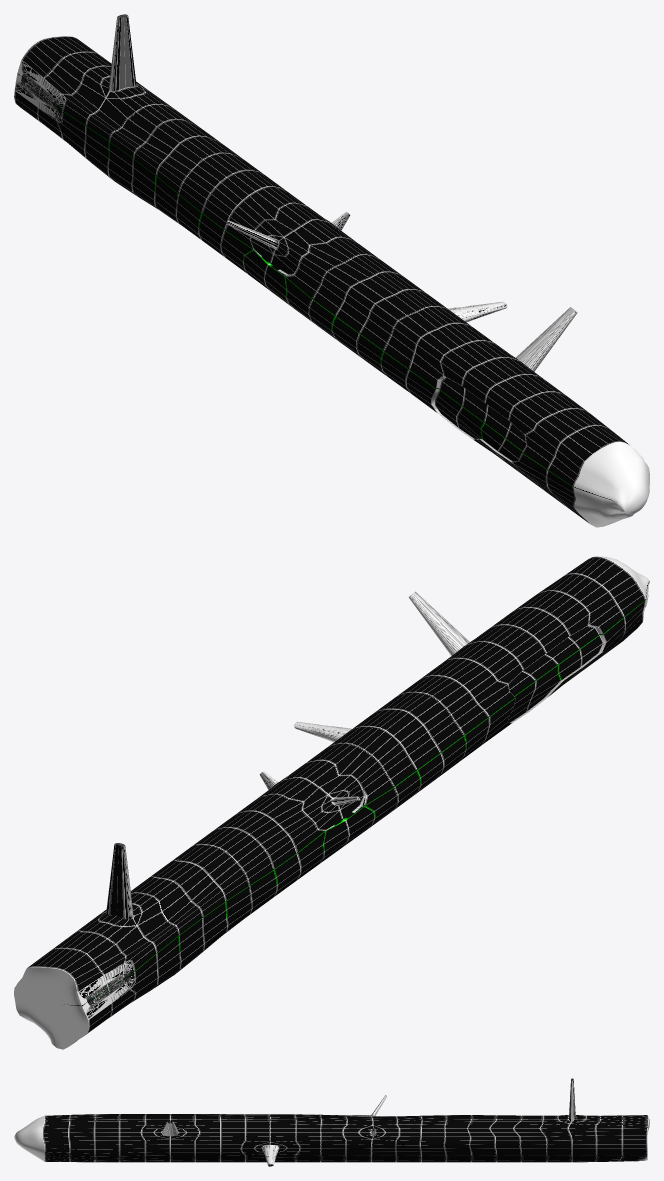
The model's file is Log.FBX.
The picture shows the model from 3 angles, top to bottom: view 1: azimuth 30°, elevation 25°; view 2: azimuth 150°, elevation 25°; view 3: azimuth 270°, elevation 25°; orthographic projection. The views are drawn at different scales.
Parts seen in each view (by area): view 1: Cylinder001; view 2: Cylinder001; view 3: Cylinder001.
Boxes of the visible parts, x1,y1,x2,y2 form: Cylinder001: [14, 14, 649, 527]; Cylinder001: [14, 556, 649, 1049]; Cylinder001: [14, 1078, 649, 1166].
Size of the model in its own units: 20.96 by 17.77 by 125.
